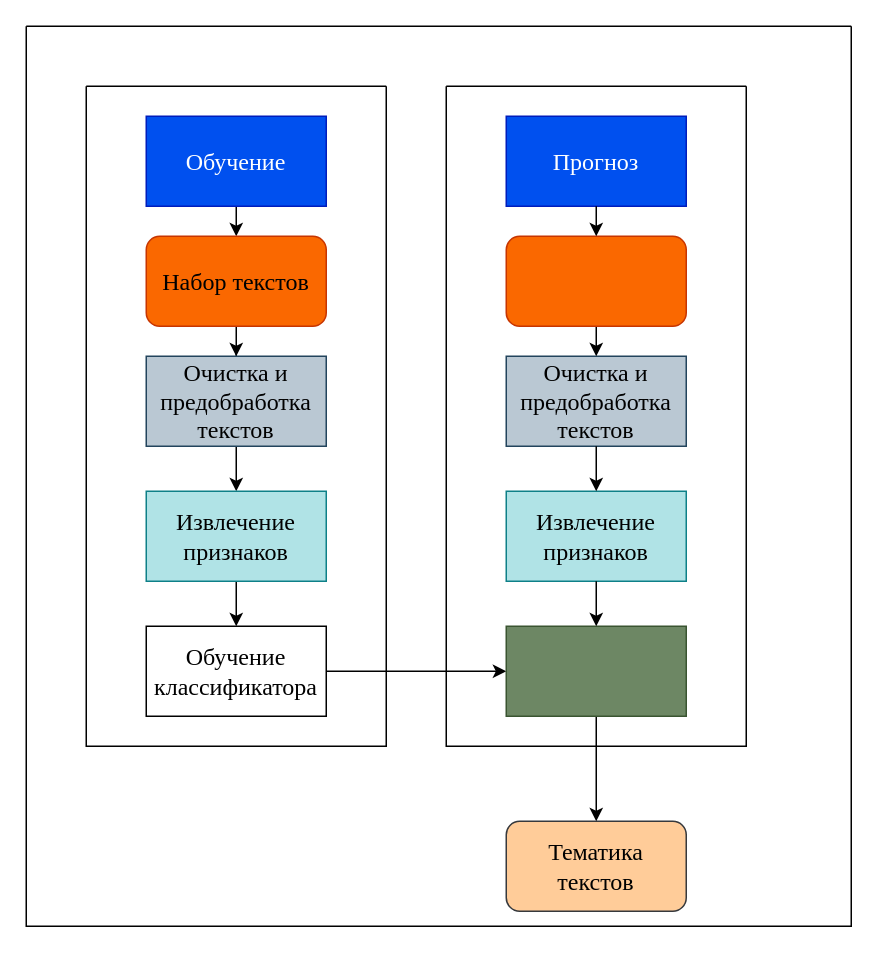
Some shapes in this 878 by 953 pixel diagram are drawn without their labels. The centre of each missing label's shape, as x and y in pixels:
Входный текст: [595,280]
Классификация: [595,670]
